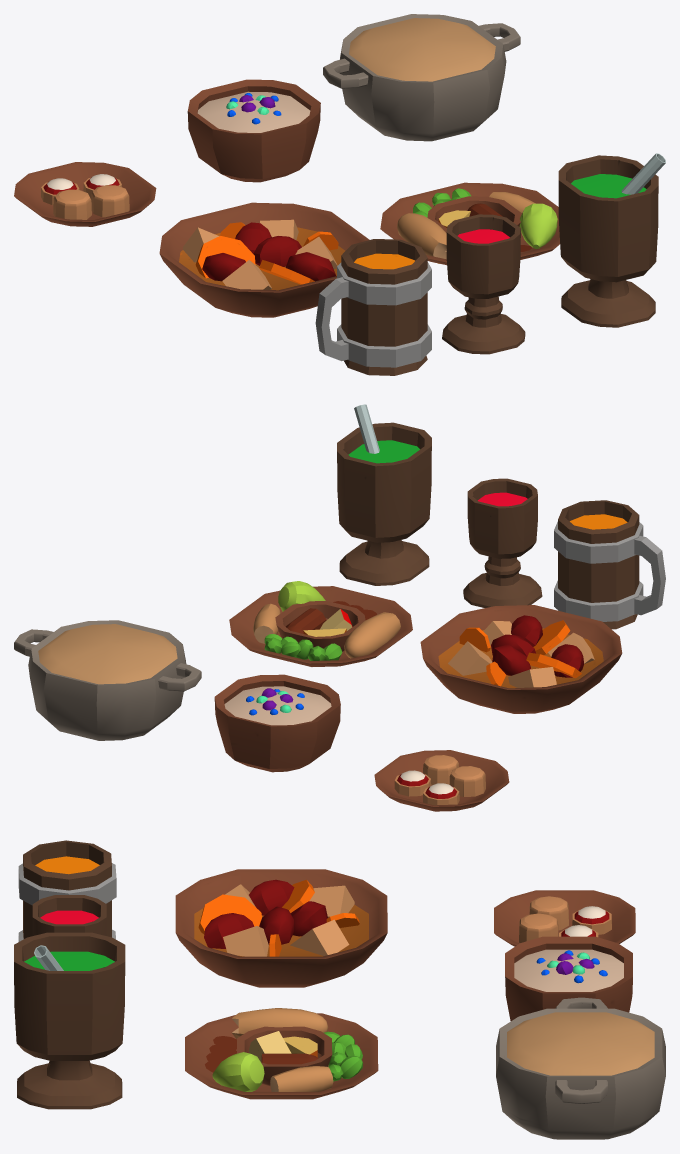
File: Food.fbx
3 renders of one model, top to bottom at view 1: azimuth 30°, elevation 25°; view 2: azimuth 150°, elevation 25°; view 3: azimuth 270°, elevation 25°, orthographic. The views are drawn at different scales.
Visible parts, largest first — view 1: Pie_Big_1, Smoothie_1, Tavern_Mug_1, Porridge_Small_1, Soup_Big_Bowl_1, Wine_Goblet_1, Big_Soup_Veggies_1, Plate_Small_1, Plate_Small_2, Tavern_Mug_Handle, Bread_1, Pear_1 (+8 smaller); view 2: Pie_Big_1, Smoothie_1, Tavern_Mug_1, Soup_Big_Bowl_1, Porridge_Small_1, Wine_Goblet_1, Big_Soup_Veggies_1, Plate_Small_2, Plate_Small_1, Plate_Small_3, Bread_1, Tavern_Mug_Handle (+10 smaller); view 3: Pie_Big_1, Smoothie_1, Soup_Big_Bowl_1, Big_Soup_Veggies_1, Porridge_Small_1, Tavern_Mug_1, Plate_Small_2, Plate_Small_1, Wine_Goblet_1, Plate_Small_3, Bread_1, Pear_1 (+12 smaller).
Boxes of the visible parts, <box> form: Pie_Big_1: <box>340,14,506,141</box>; Smoothie_1: <box>558,153,665,327</box>; Tavern_Mug_1: <box>337,239,431,375</box>; Porridge_Small_1: <box>187,79,320,182</box>; Soup_Big_Bowl_1: <box>159,202,369,317</box>; Wine_Goblet_1: <box>442,214,525,354</box>; Big_Soup_Veggies_1: <box>183,219,338,289</box>; Plate_Small_1: <box>14,162,156,226</box>; Plate_Small_2: <box>380,182,559,265</box>; Tavern_Mug_Handle: <box>315,277,348,361</box>; Bread_1: <box>397,213,446,263</box>; Pear_1: <box>519,203,557,248</box>; Pie_Big_1: <box>28,620,186,740</box>; Smoothie_1: <box>337,404,431,585</box>; Tavern_Mug_1: <box>554,500,643,629</box>; Soup_Big_Bowl_1: <box>420,605,622,713</box>; Porridge_Small_1: <box>214,674,340,772</box>; Wine_Goblet_1: <box>463,478,542,607</box>; Big_Soup_Veggies_1: <box>448,615,594,687</box>; Plate_Small_2: <box>229,586,412,666</box>; Plate_Small_1: <box>374,750,509,811</box>; Plate_Small_3: <box>275,601,365,651</box>; Bread_1: <box>344,612,400,658</box>; Tavern_Mug_Handle: <box>634,535,665,615</box>; Pie_Big_1: <box>496,1008,665,1139</box>; Smoothie_1: <box>14,932,125,1109</box>; Soup_Big_Bowl_1: <box>175,869,387,987</box>; Big_Soup_Veggies_1: <box>198,879,359,956</box>; Porridge_Small_1: <box>505,936,632,1020</box>; Tavern_Mug_1: <box>18,840,116,941</box>; Plate_Small_2: <box>185,1013,378,1099</box>; Plate_Small_1: <box>494,890,635,946</box>; Wine_Goblet_1: <box>32,895,106,935</box>; Plate_Small_3: <box>237,1026,332,1085</box>; Bread_1: <box>232,1008,328,1039</box>; Pear_1: <box>212,1052,264,1091</box>.
Bounding box in the file's own units: 5.4 × 1.6 × 5.75.
